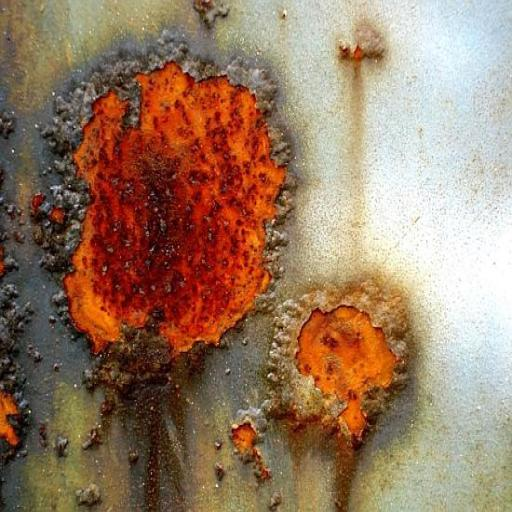segmentation: (47, 50, 298, 372), (250, 270, 418, 512), (60, 313, 211, 512), (224, 417, 267, 462), (337, 42, 382, 65), (0, 390, 17, 446), (50, 209, 63, 222)
